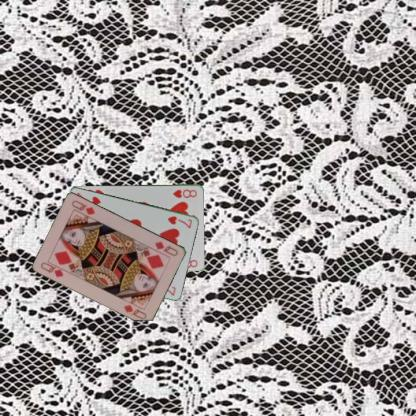7h: (165, 214, 194, 230)
8h: (171, 187, 198, 199)
Qd: (38, 258, 69, 278), (153, 239, 179, 257)
